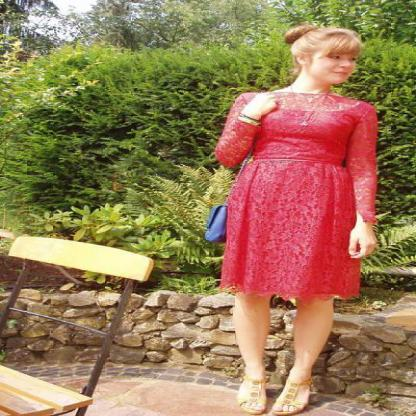bag: (205, 205, 228, 241)
dress: (212, 87, 384, 308)
shoe: (231, 374, 319, 416)
